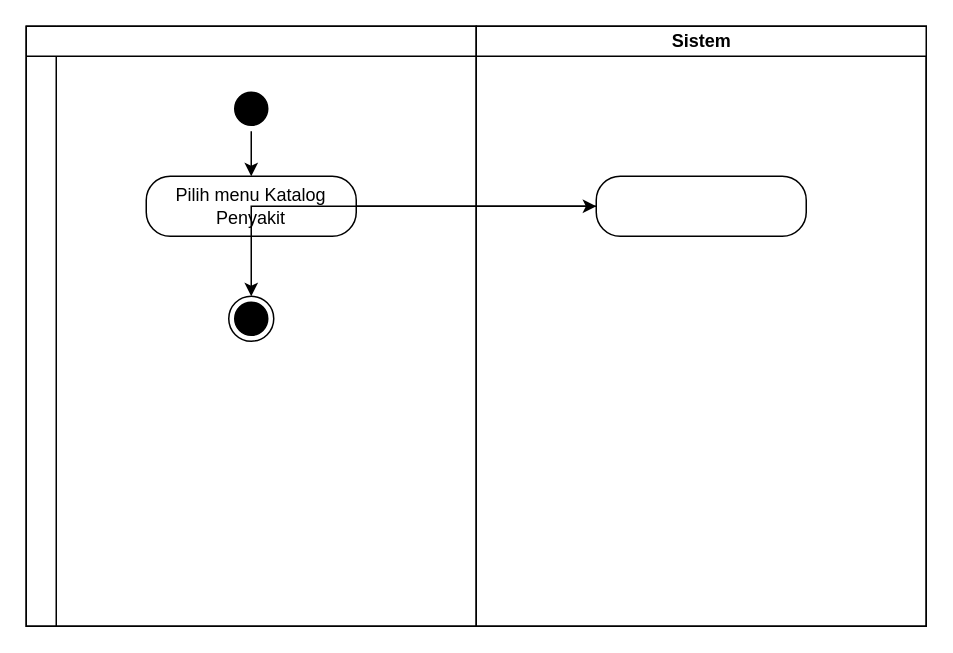
This 953x653 diagram has some shape labels left out. Here are the shapes that lost their labels. From the top down, the box of each, then its label:
(595, 175, 806, 236): Menampilkan Katalog Penyakit
(25, 25, 476, 626): Pengguna
